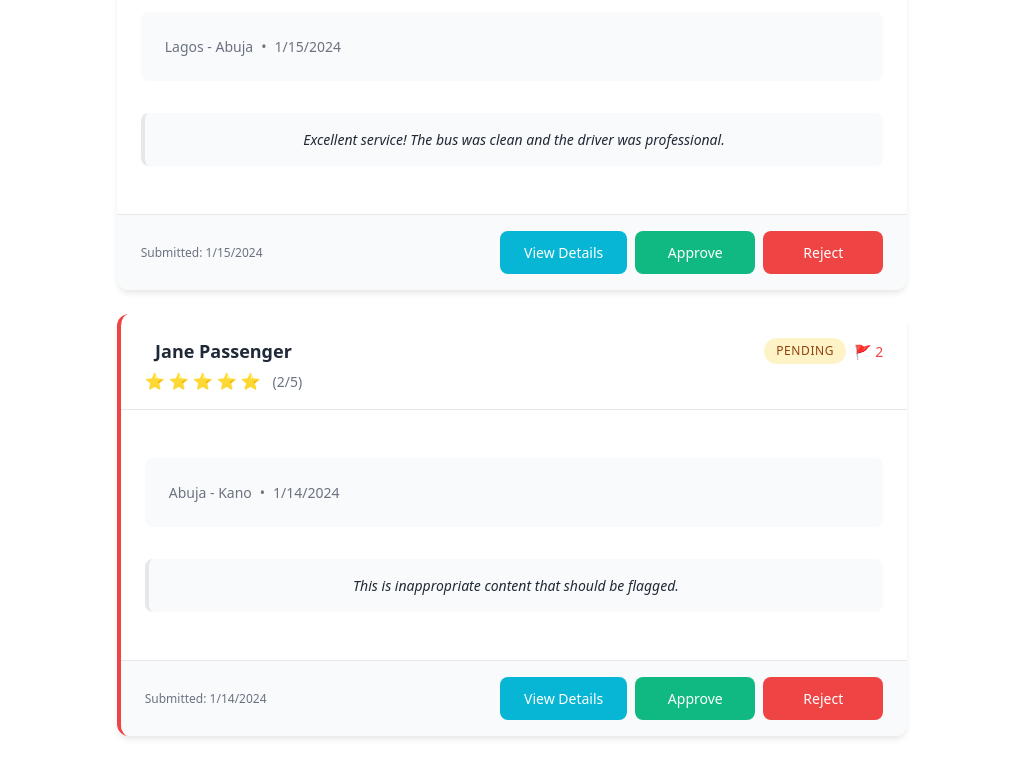
Test case: ReviewModeration › displays flags for flagged reviews in modal
The width and height of the screenshot is (1024, 768).
(page scrolled)
Note: Open modal for flagged review
Click the button "View Details" below "Abuja - Kano" at x=564, y=698, box [500, 677, 627, 720]
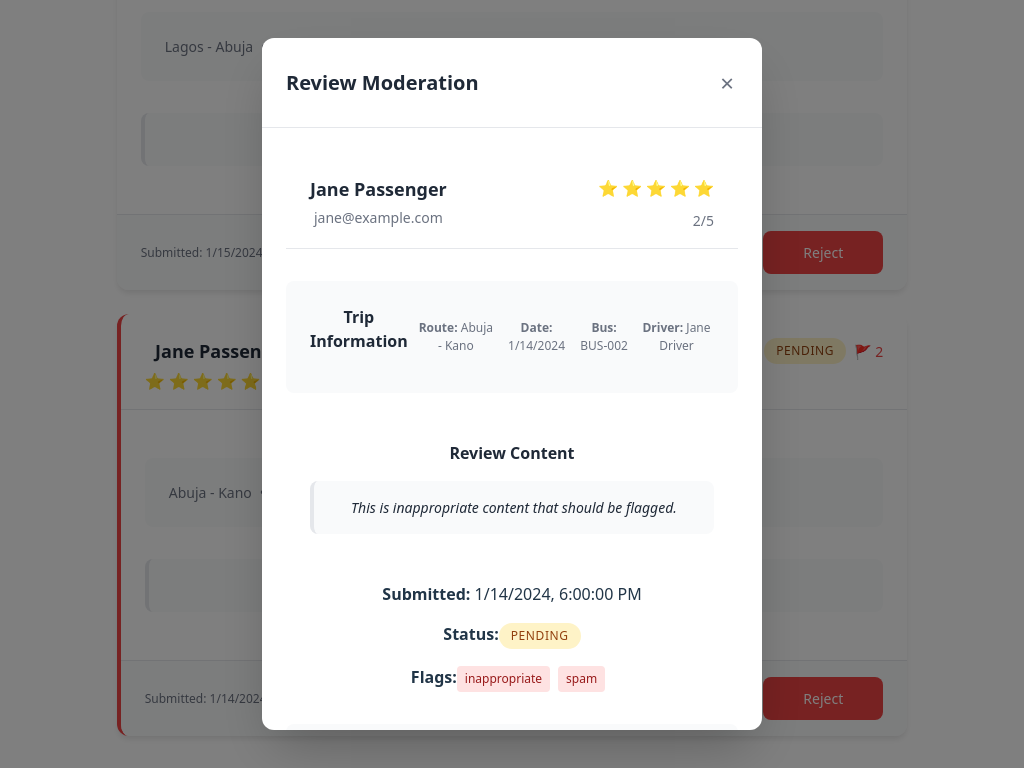
expect the text "Flags:" is shown: met, box [411, 666, 457, 688]
expect the text "inappropriate" is shown: met, box [457, 666, 550, 692]
expect the text "spam" is shown: met, box [558, 666, 605, 692]
